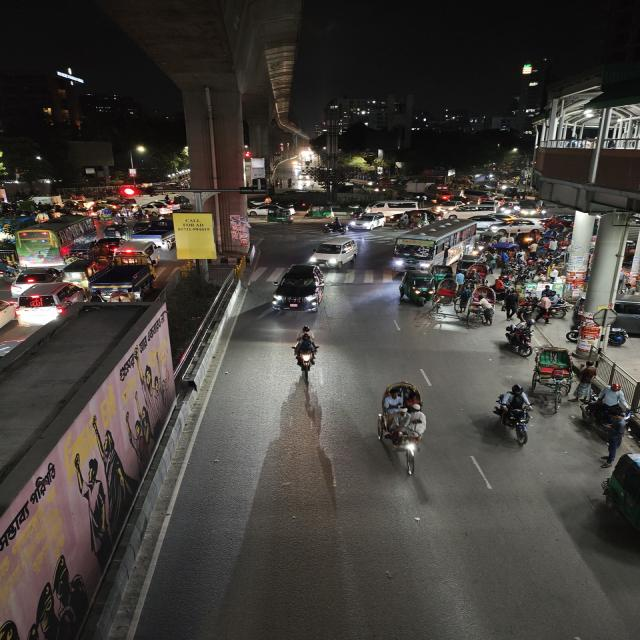bus: (390, 220, 479, 270), (16, 215, 95, 265)
car: (267, 262, 328, 317), (14, 281, 86, 325), (308, 237, 362, 268), (7, 266, 65, 290), (611, 293, 640, 331), (116, 242, 161, 264), (345, 212, 388, 232), (443, 206, 496, 222), (0, 294, 15, 337), (376, 198, 420, 212), (470, 214, 507, 230), (437, 198, 467, 214), (510, 216, 540, 228)
cng: (395, 269, 435, 307), (264, 204, 295, 225), (101, 224, 128, 240)
motorcycle: (491, 382, 537, 446), (580, 391, 634, 441), (286, 325, 324, 383), (505, 324, 537, 358), (322, 217, 347, 236)
pedestrian: (501, 291, 520, 319)
pickup_van: (90, 263, 158, 303), (125, 225, 173, 245)
rickshaw: (371, 378, 433, 478), (531, 345, 577, 401), (572, 306, 625, 352), (426, 280, 471, 332), (464, 286, 496, 326), (535, 290, 571, 322), (463, 261, 491, 285)
